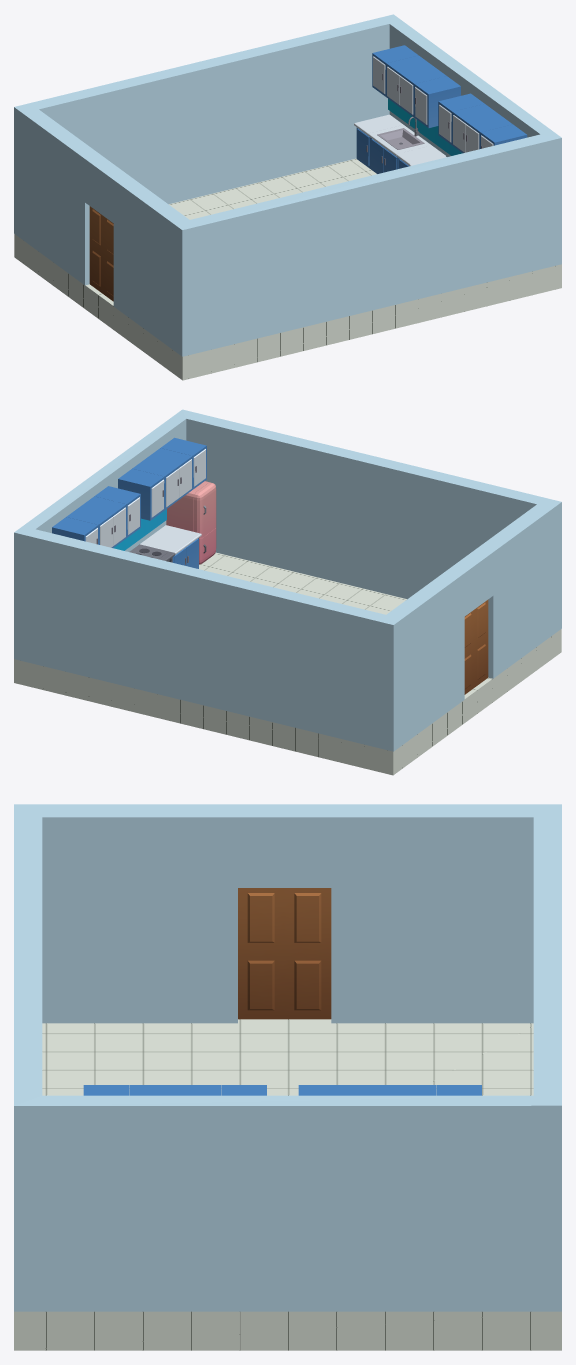
Rendered from Kitchen_M.fbx.
3 views of the same model, one above another, from view 1: azimuth 30°, elevation 25°; view 2: azimuth 150°, elevation 25°; view 3: azimuth 270°, elevation 25° (orthographic). The views are drawn at different scales.
Parts seen in each view (by area): view 1: polySurface11, Floor, 1Door.Upper.Door, 1Door, 1Door.Upper.Door1, polySurface12, Tile; view 2: polySurface11, Floor, 1Door.Upper.Door1, 1Door.Upper.Door, Fridge.Door.U1, polySurface12, 2Door, Tile; view 3: polySurface11, Floor, polySurface12, 1Door.Upper.Door1, 1Door.Upper.Door.
Boxes of the visible parts, box(x1,y1,x2,y2) form: polySurface11: box(14, 14, 561, 356); Floor: box(14, 158, 561, 380); 1Door.Upper.Door: box(372, 45, 460, 128); 1Door: box(354, 114, 445, 173); 1Door.Upper.Door1: box(438, 93, 527, 153); polySurface12: box(89, 206, 113, 301); Tile: box(388, 99, 462, 155); polySurface11: box(14, 409, 561, 751); Floor: box(14, 552, 561, 775); 1Door.Upper.Door1: box(118, 437, 206, 520); 1Door.Upper.Door: box(52, 486, 140, 547); Fridge.Door.U1: box(166, 481, 216, 564); polySurface12: box(464, 599, 488, 694); 2Door: box(140, 525, 201, 568); Tile: box(113, 509, 166, 550); polySurface11: box(14, 804, 561, 1311); Floor: box(14, 1019, 561, 1350); polySurface12: box(238, 888, 331, 1019); 1Door.Upper.Door1: box(83, 1085, 266, 1095); 1Door.Upper.Door: box(298, 1085, 481, 1095).
Size of the model in its own units: 1036 by 392 by 796.
Materials: 2 (2 with a texture image).
